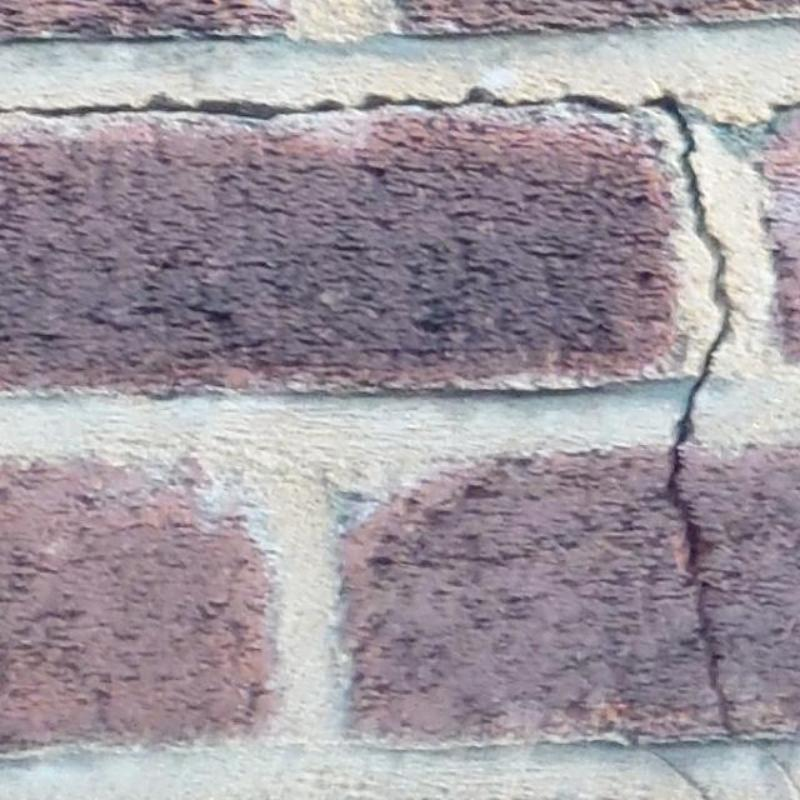crack: (1, 84, 738, 738), (646, 748, 712, 799), (751, 741, 799, 799)
